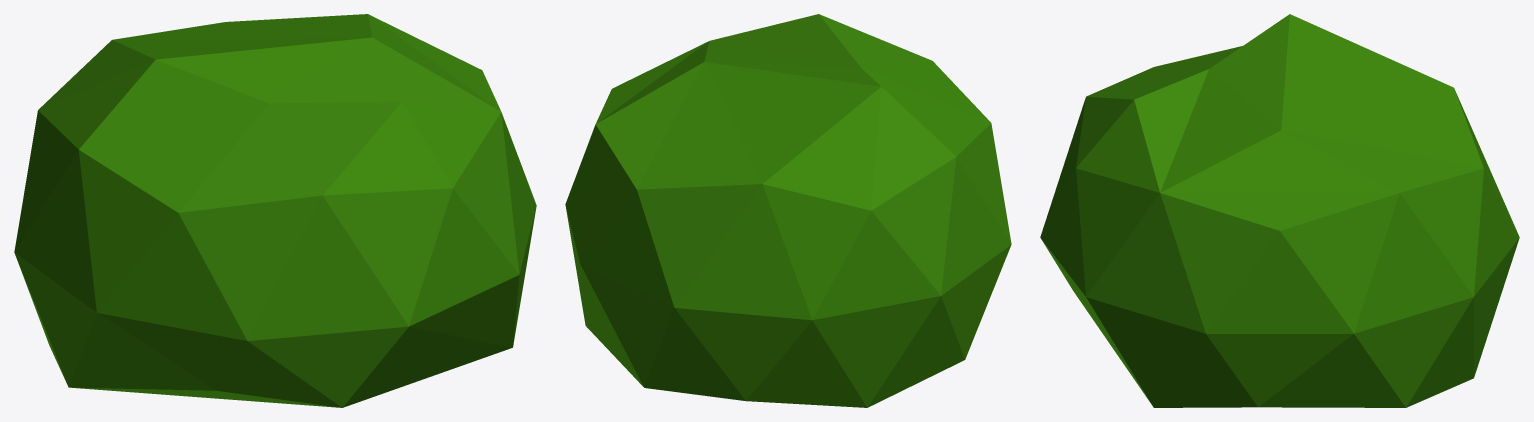
File: bush1.fbx
3 views of the same model, side by side, from view 1: azimuth 30°, elevation 25°; view 2: azimuth 150°, elevation 25°; view 3: azimuth 270°, elevation 25° (orthographic). The views are drawn at different scales.
Visible parts, largest first — view 1: Icosphere; view 2: Icosphere; view 3: Icosphere.
Boxes of the visible parts, x1,y1,x2,y2 form: Icosphere: [14, 14, 536, 407]; Icosphere: [565, 14, 1011, 407]; Icosphere: [1040, 14, 1519, 407].
Size of the model in its own units: 190 by 132 by 200.
